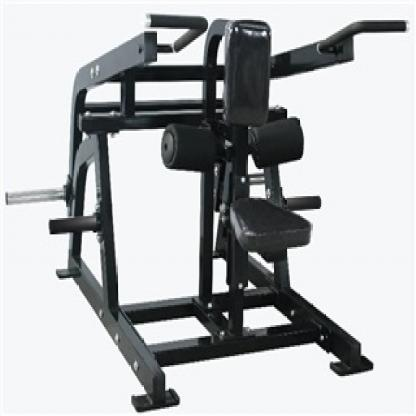seated dip machine: (5, 10, 410, 415)
